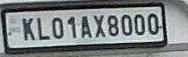0: (147, 13, 160, 35), (133, 14, 146, 36), (51, 17, 64, 39), (120, 14, 132, 36)
1: (67, 16, 77, 39)
8: (107, 15, 120, 36)
A: (80, 16, 92, 38)
K: (21, 17, 36, 41)
L: (36, 17, 51, 41)
X: (93, 14, 106, 38)
